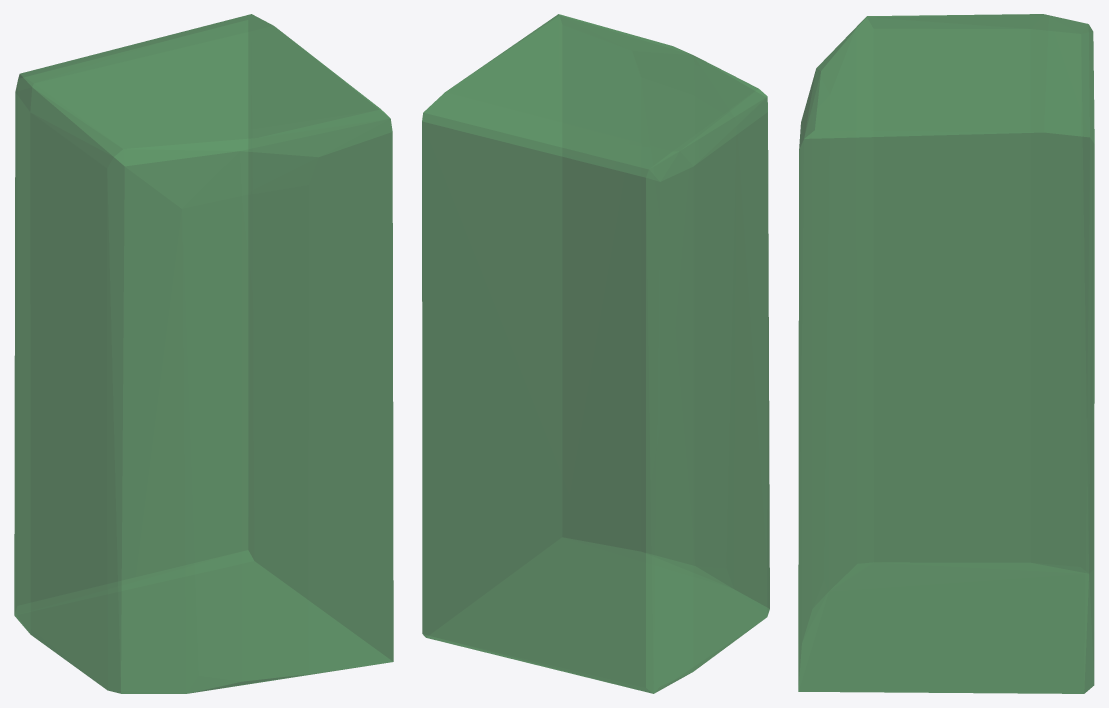
3 renders of one model, left to right at view 1: azimuth 30°, elevation 25°; view 2: azimuth 150°, elevation 25°; view 3: azimuth 270°, elevation 25°, orthographic. The views are drawn at different scales.
Visible parts, largest first — view 1: Shape_IndexedFaceSet.003; view 2: Shape_IndexedFaceSet.003; view 3: Shape_IndexedFaceSet.003.
Boxes of the visible parts, x1,y1,x2,y2 form: Shape_IndexedFaceSet.003: (14,14,393,693); Shape_IndexedFaceSet.003: (422,14,769,693); Shape_IndexedFaceSet.003: (798,14,1094,693).
Size of the model in its own units: 0.3562 by 0.747 by 0.3574.
